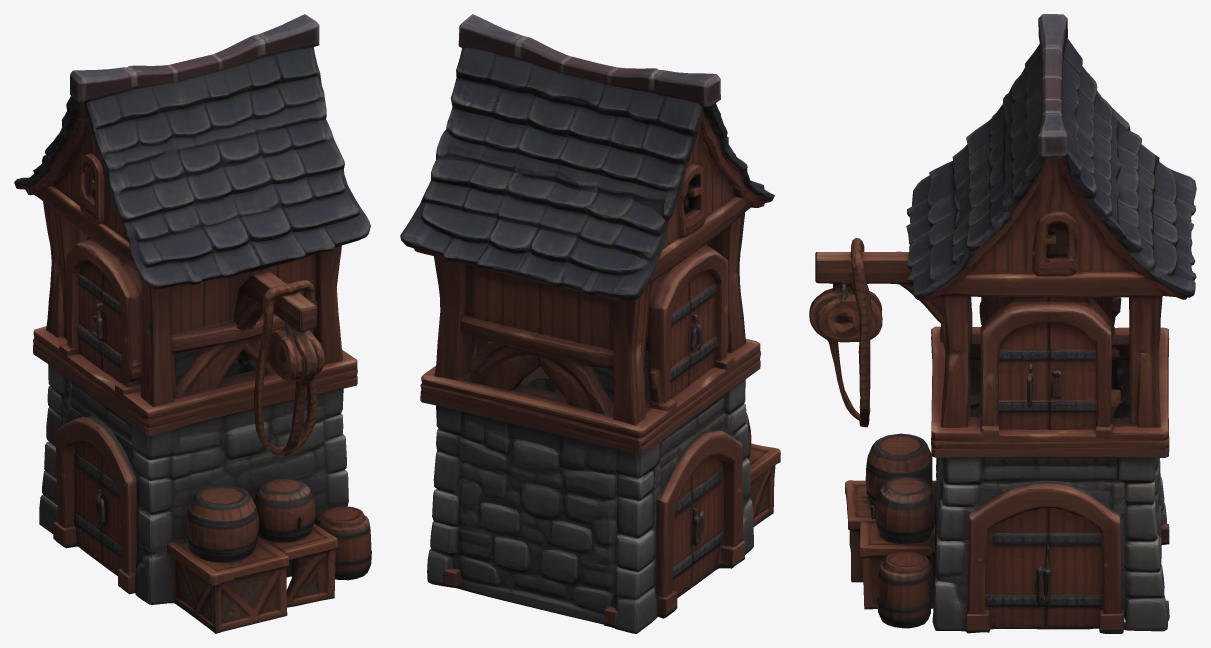
Rendered from warehouse.glb.
The picture shows the model from 3 angles, left to right: view 1: azimuth 30°, elevation 25°; view 2: azimuth 150°, elevation 25°; view 3: azimuth 270°, elevation 25°; orthographic projection. The views are drawn at different scales.
Parts seen in each view (by area): view 1: geometry_0; view 2: geometry_0; view 3: geometry_0.
Part boxes in pixels (x1=…): geometry_0: x1=14, y1=14, x2=371, y2=633; geometry_0: x1=400, y1=14, x2=780, y2=633; geometry_0: x1=809, y1=14, x2=1196, y2=633.
Bounding box in the file's own units: 0.5056 × 0.9998 × 0.6849.
1 material, 1 textured.
